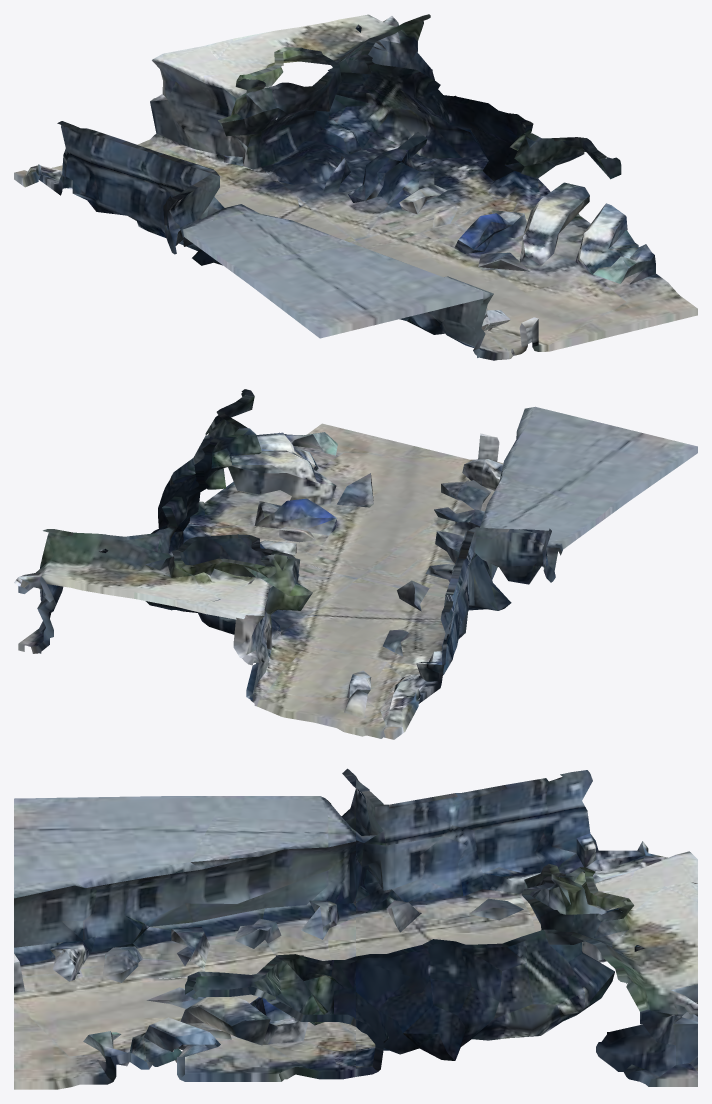
3 views of the same model, one above another, from view 1: azimuth 30°, elevation 25°; view 2: azimuth 150°, elevation 25°; view 3: azimuth 270°, elevation 25° (orthographic). The views are drawn at different scales.
Parts seen in each view (by area): view 1: 30436272704370634431_0; view 2: 30436272704370634431_0; view 3: 30436272704370634431_0.
Part boxes in pixels (left/top/right/bottom): 30436272704370634431_0: left=14, top=14, right=697, bottom=360; 30436272704370634431_0: left=14, top=389, right=697, bottom=739; 30436272704370634431_0: left=14, top=768, right=697, bottom=1089.
Bounding box in the file's own units: 28.23 × 7.09 × 38.26.
1 material, 1 textured.
